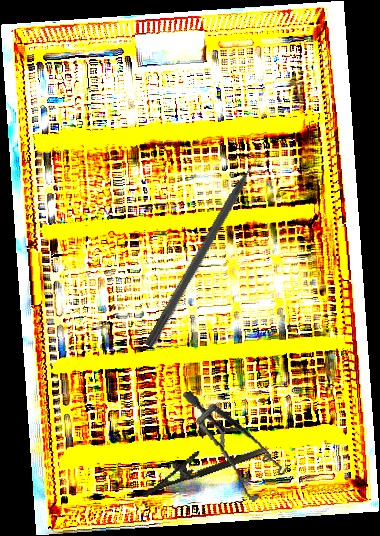Needle Holder: (135, 430, 267, 498)
Pusher: (143, 141, 272, 350)
Speculum: (182, 378, 293, 510)
